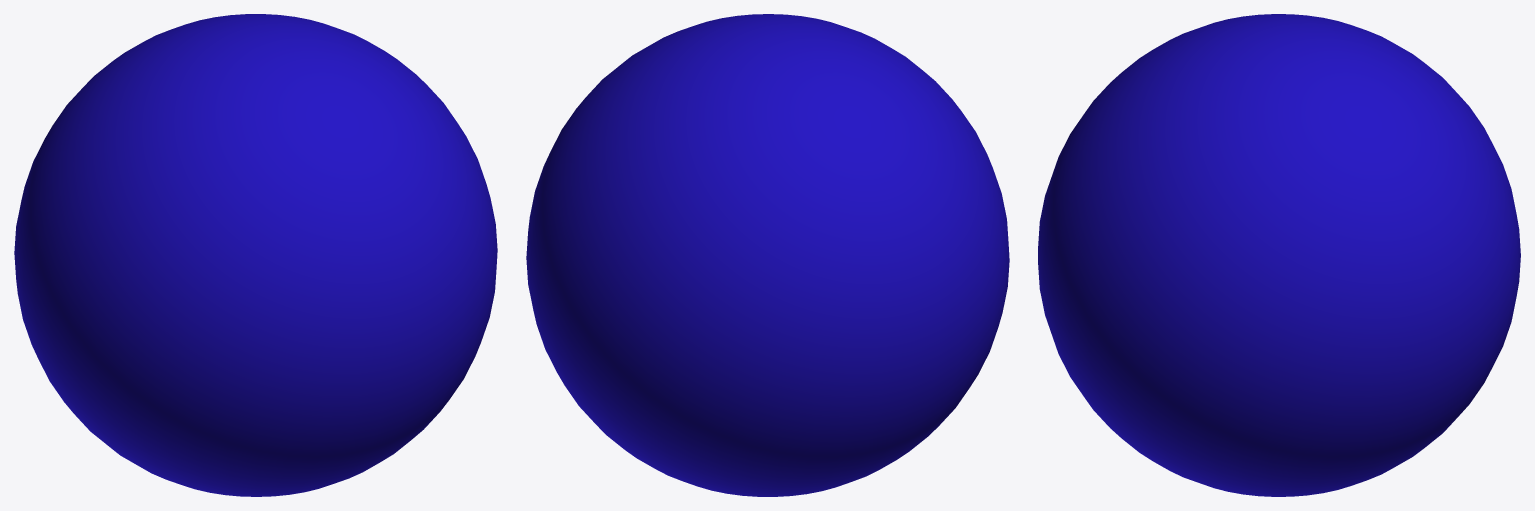
The picture shows the model from 3 angles, left to right: view 1: azimuth 30°, elevation 25°; view 2: azimuth 150°, elevation 25°; view 3: azimuth 270°, elevation 25°; orthographic projection.
Visible parts, largest first — view 1: Sphere_Sphere.001; view 2: Sphere_Sphere.001; view 3: Sphere_Sphere.001.
Part boxes in pixels (bbox=[...]): Sphere_Sphere.001: bbox=[14, 14, 497, 496]; Sphere_Sphere.001: bbox=[526, 14, 1009, 496]; Sphere_Sphere.001: bbox=[1038, 14, 1520, 496].
Size of the model in its own units: 2 by 2 by 2.
